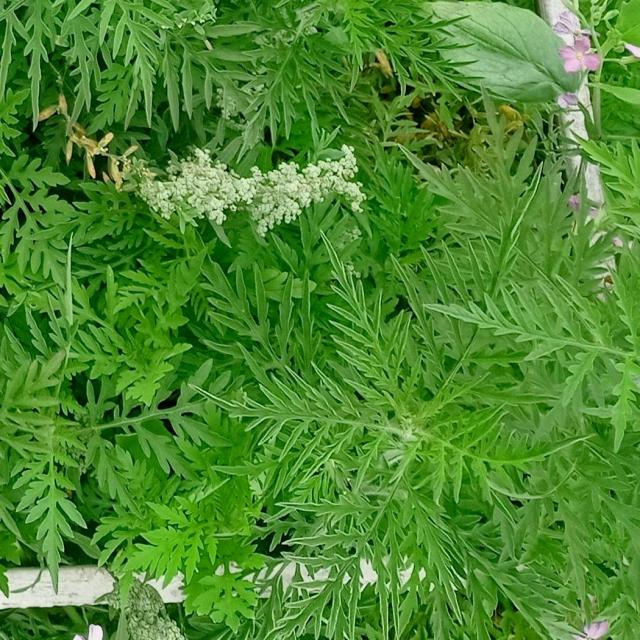AMBEL: (251, 164, 601, 639), (0, 312, 245, 560), (227, 0, 475, 149), (0, 0, 271, 118), (0, 78, 85, 286)
